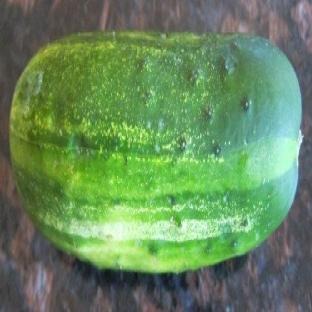Cucumber: (10, 32, 301, 271)
